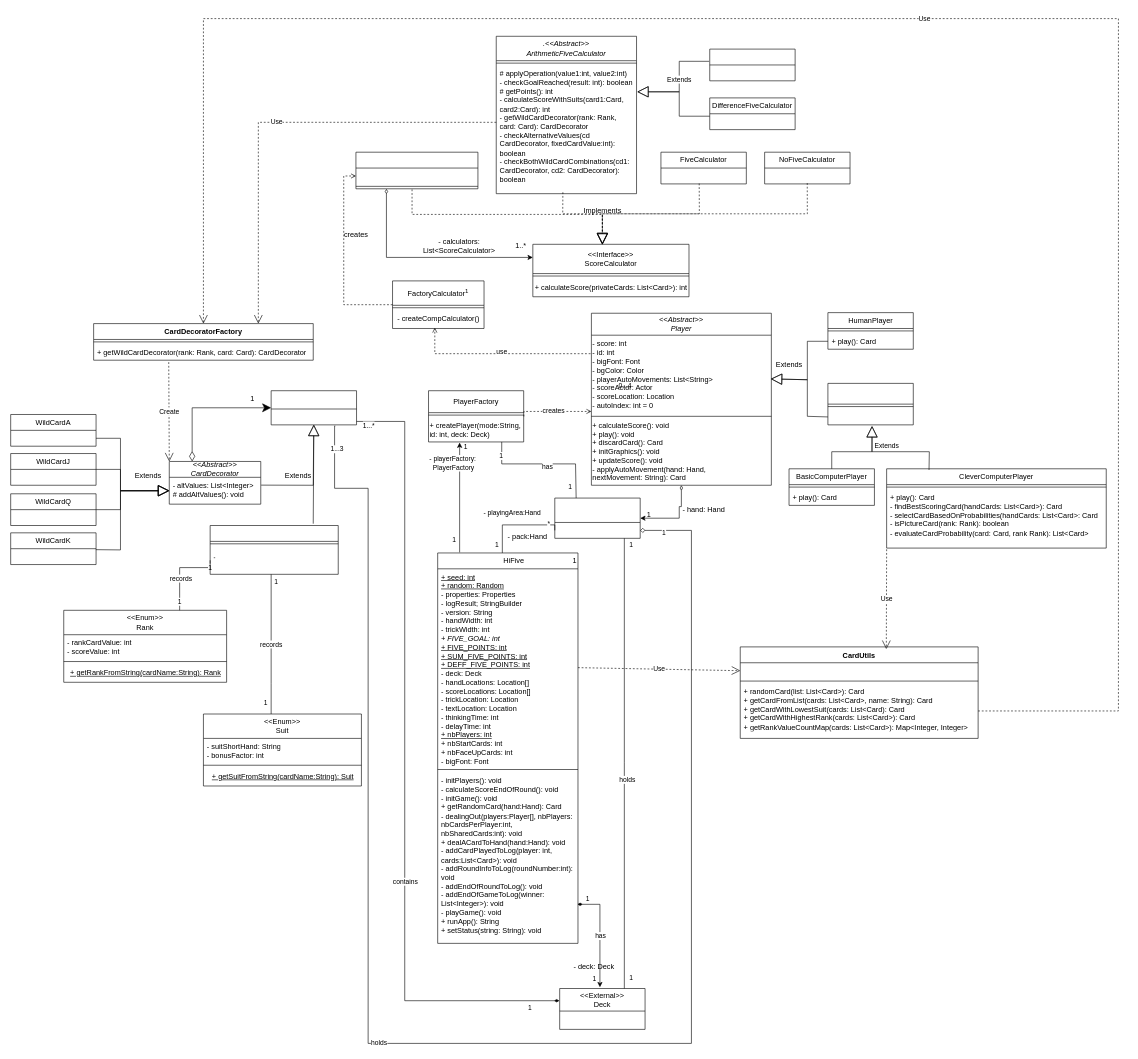
Image size: 1138x1059. Some labels were removed from this diagram. The shapes that lost their labels are listed below. From the top down, each one's centre as x and y in pixels, then its label:
the point at 752,64: SumFiveCalculator
the point at 416,170: CompositeCalculator
the point at 314,407: <<External>> Card
the point at 870,404: ComputerPlayer
the point at 597,517: <<External>> Hand
the point at 274,549: CardBase
